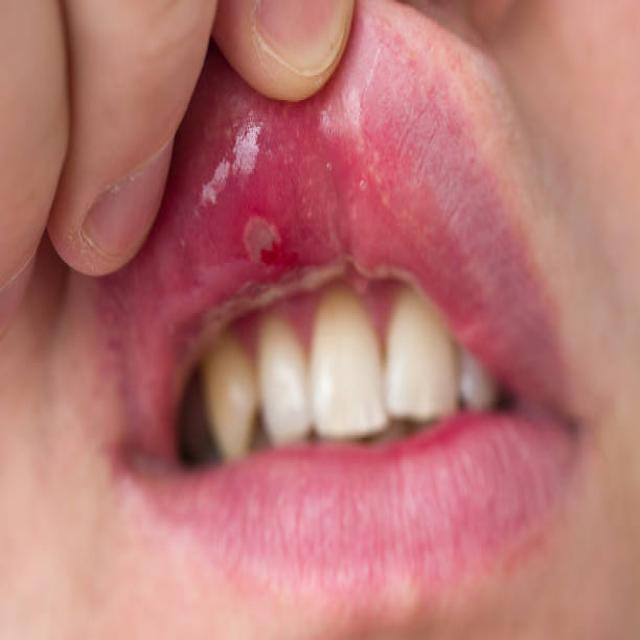processing_area: (102, 37, 559, 410)
ulcer-detection: (226, 183, 301, 287)
